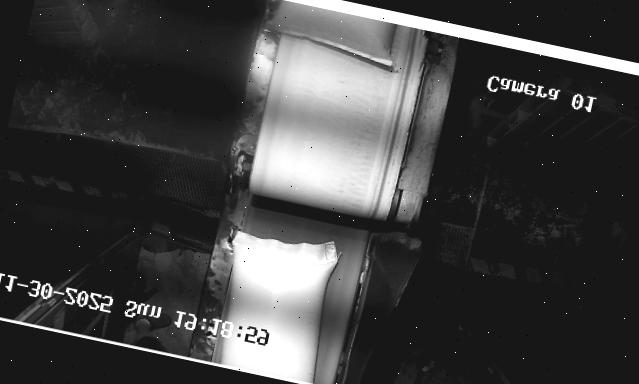bag: (206, 222, 344, 384), (264, 0, 404, 67)
